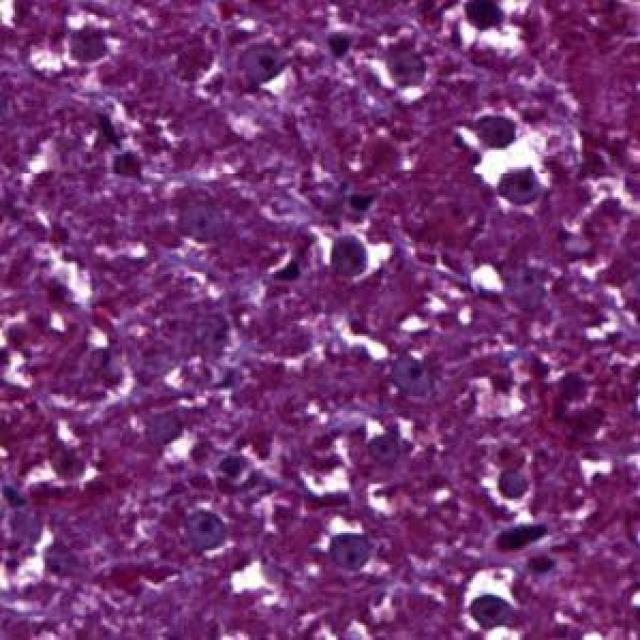inflammation: (460, 105, 559, 216), (456, 561, 526, 640), (312, 220, 394, 287), (43, 19, 118, 86), (359, 36, 438, 98), (441, 0, 537, 49), (310, 516, 388, 574)
